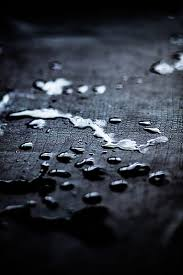Wet-floor: (6, 54, 183, 251), (0, 144, 161, 241), (27, 104, 183, 171), (16, 65, 116, 112)
